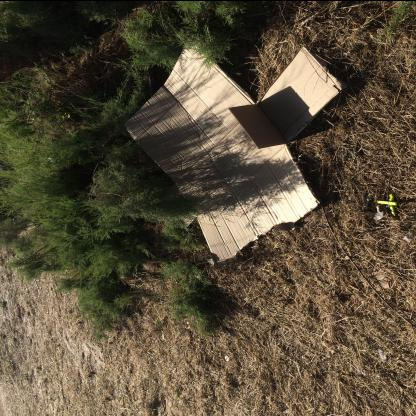karton: (126, 40, 348, 264)
plastik: (377, 193, 397, 215)
